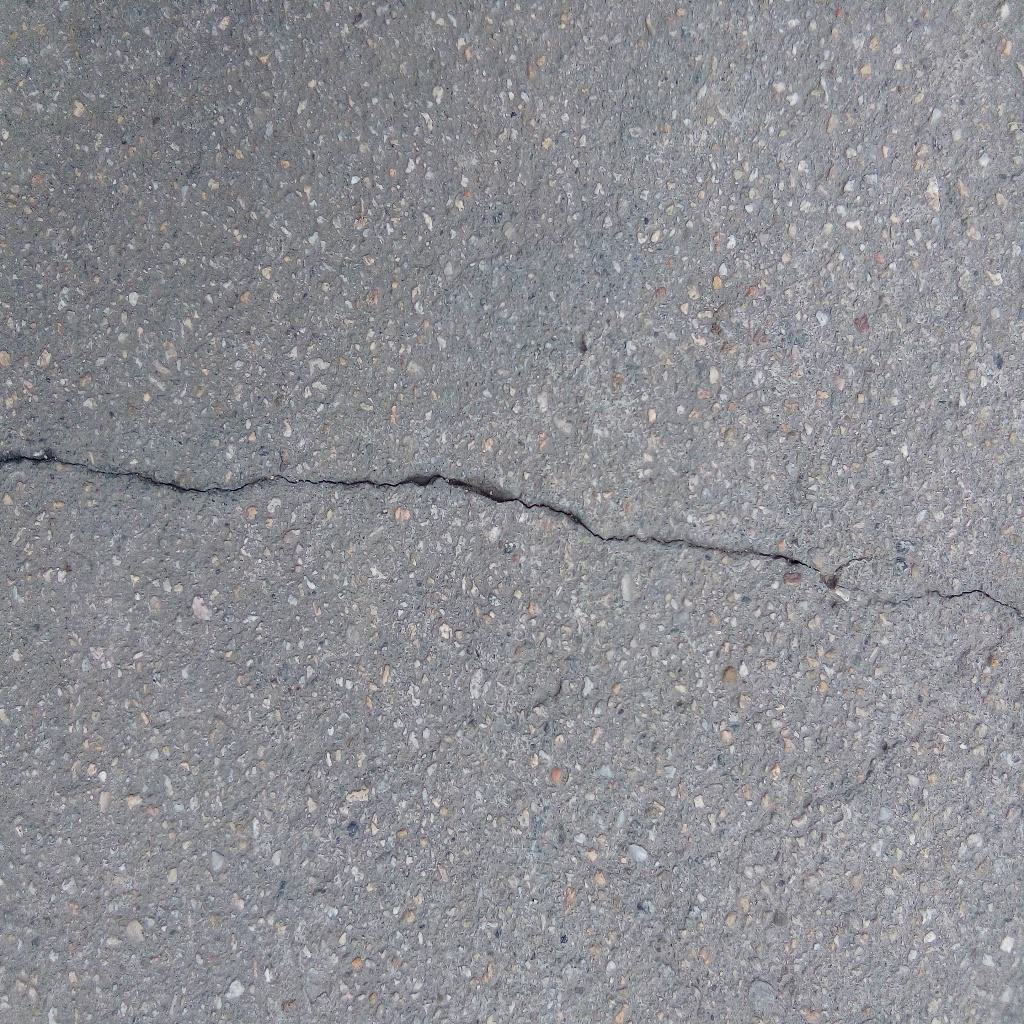Crack: (1, 451, 1024, 615)
